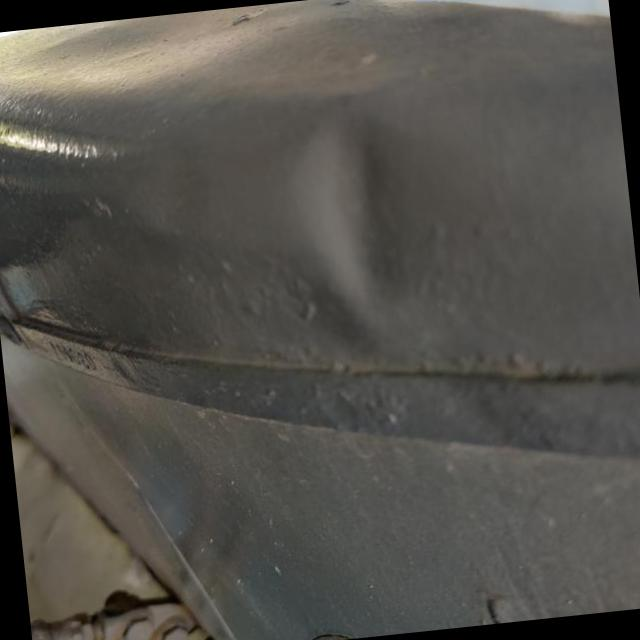Dent: (268, 85, 467, 338)
